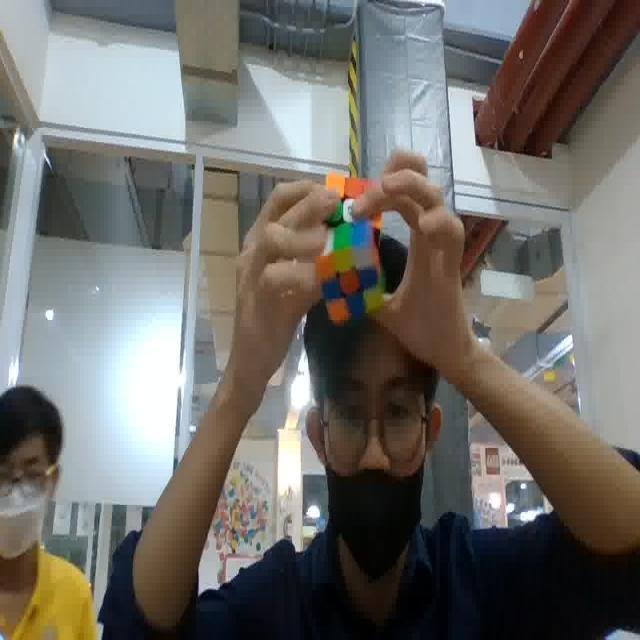Rub: (312, 169, 386, 319)
